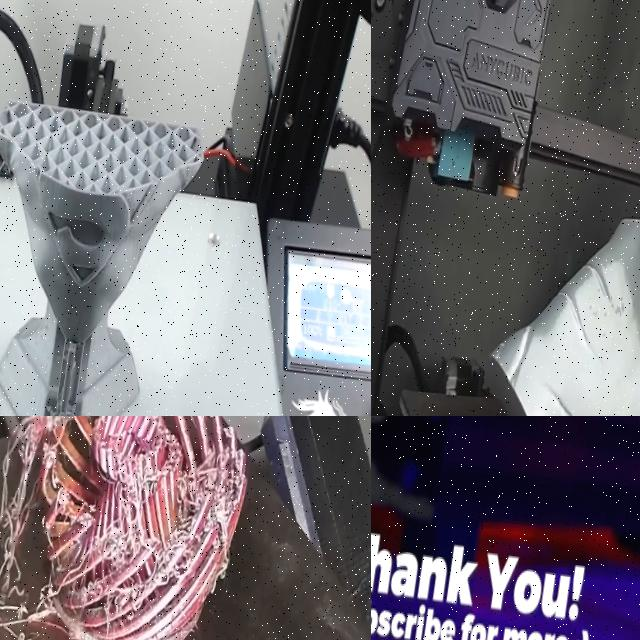spaghetti: (0, 416, 252, 640)
